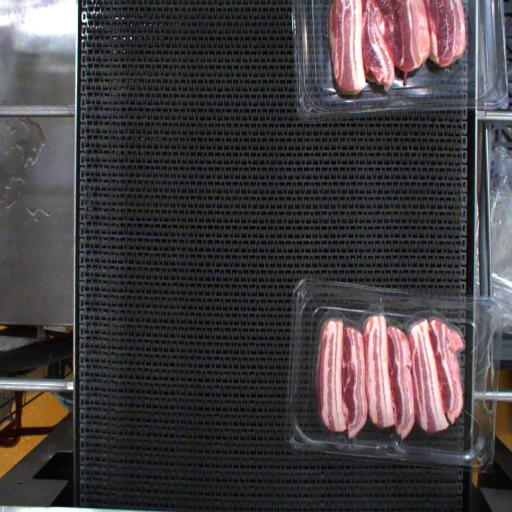packaging-error: (384, 432, 405, 455), (329, 431, 354, 450)
unsealed: (313, 293, 475, 361)
